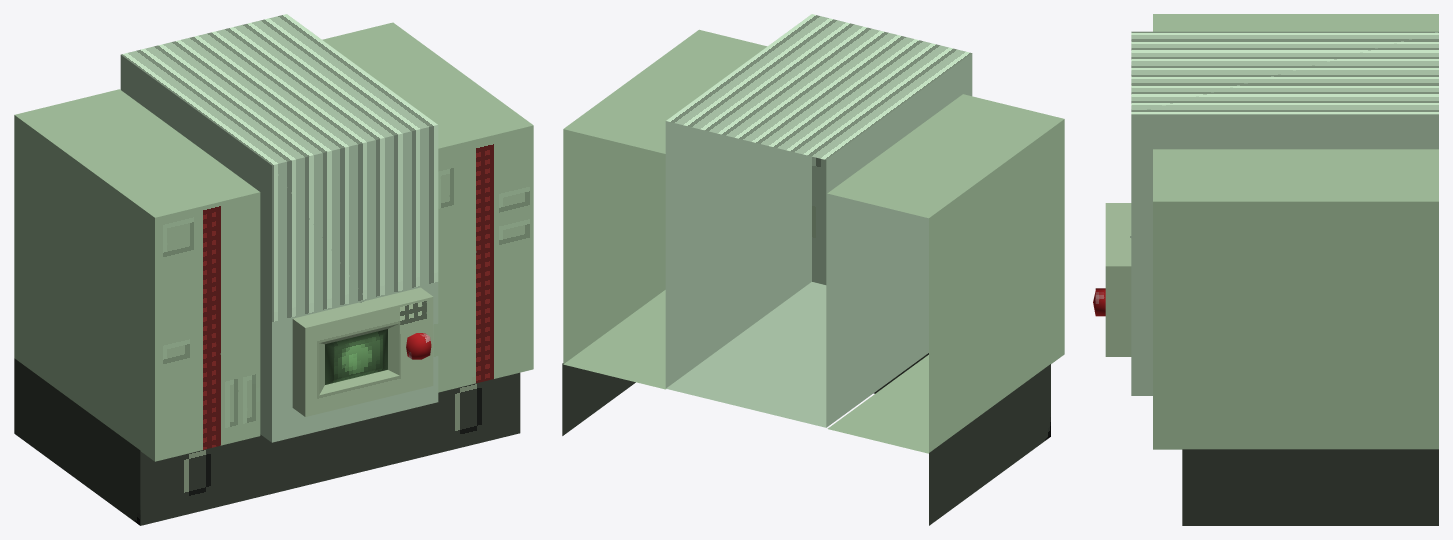
Rendered from mainframe.glb.
3 views of the same model, side by side, from view 1: azimuth 30°, elevation 25°; view 2: azimuth 150°, elevation 25°; view 3: azimuth 270°, elevation 25° (orthographic). The views are drawn at different scales.
Parts seen in each view (by area): view 1: mainframe; view 2: mainframe; view 3: mainframe.
Part boxes in pixels (x1,y1,x2,y2): mainframe: (14,14,533,525); mainframe: (562,14,1064,525); mainframe: (1093,14,1438,525).
Size of the model in its own units: 6.5 by 5.77 by 5.04.
Materials: 1 (1 with a texture image).
